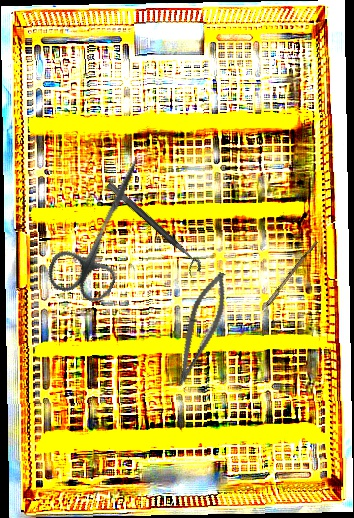Fixation Ring: (99, 180, 206, 280)
Iris Scissors: (42, 141, 166, 309)
Micro Scissor: (169, 267, 235, 392)
Surgical Spoon: (247, 239, 319, 330)
